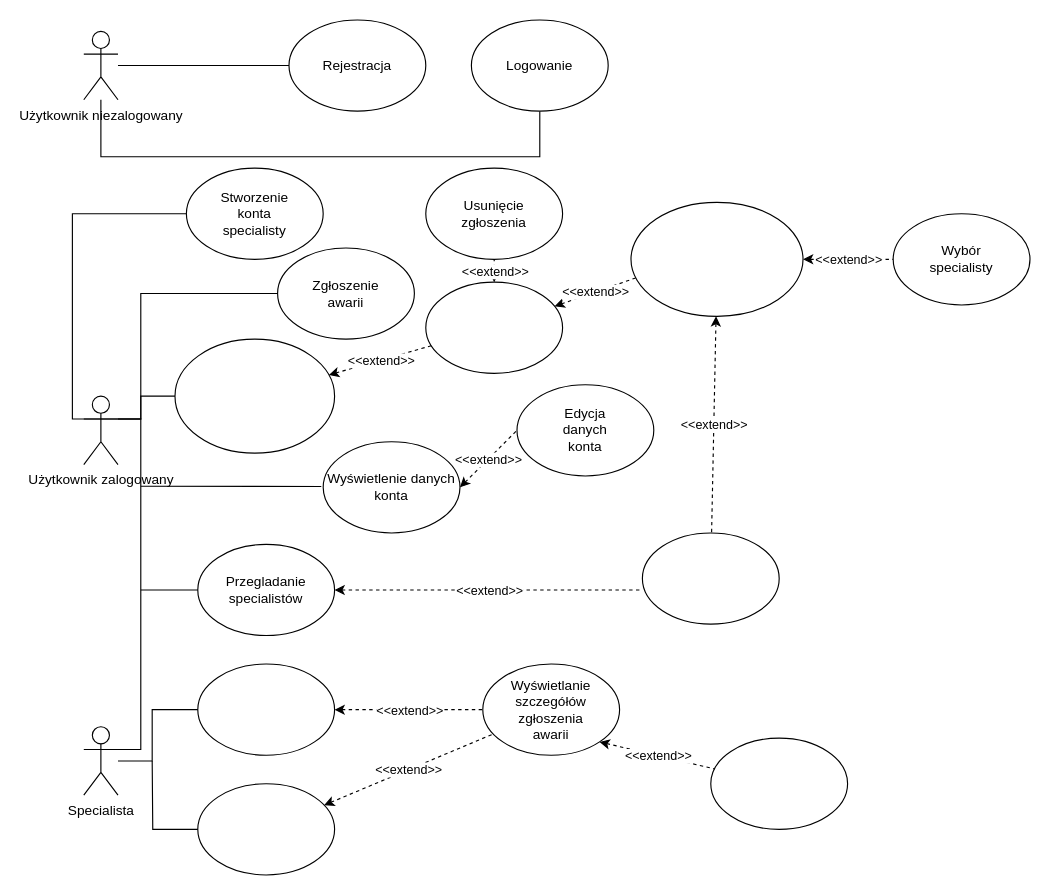
The diagram is 1050 pixels wide and 895 high, and some of its shapes have lost their labels. Here are the shapes that lost their labels. From the top down, the centre of each, then its label:
point 716,258: Przegląd speicialistów zainteresowanych zgłoszeniem
point 494,327: Wyświetlenie szczegółów zgloszenia użytkownika
point 254,395: Przeglądanie zgłoszeń utowrzonych przez uzytkownika
point 710,578: Wyświetlenie detali specialisty
point 266,709: Przeglądanie zgłoszeń awarii
point 779,783: Wybór zgłoszenia
point 266,829: Przegląd zleceń specialisty
